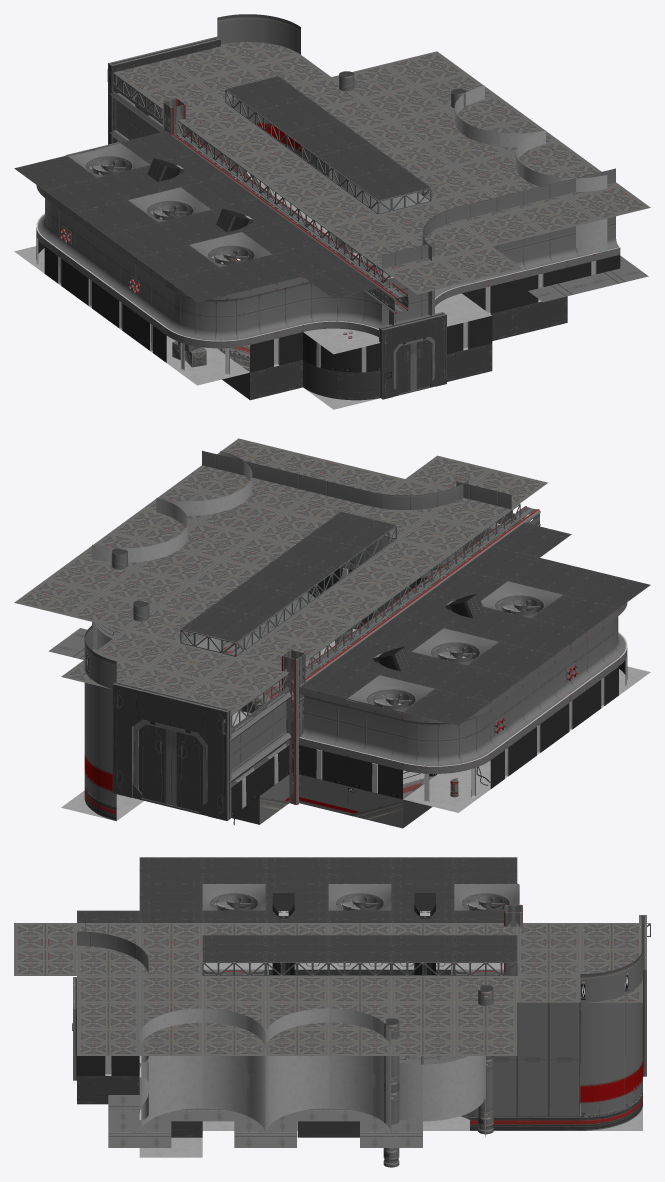
Rendered from demo-layout-fans.glb.
3 views of the same model, one above another, from view 1: azimuth 30°, elevation 25°; view 2: azimuth 150°, elevation 25°; view 3: azimuth 270°, elevation 25° (orthographic). The views are drawn at different scales.
Parts seen in each view (by area): view 1: Door_Frame_Square.001, ShortWall_Band2_Corner_Outer, TopPlastic_Corner_Round_Outer, TopPlastic_Corner_Round_Inner.002, ShortWall_DarkMetal2_Corner_Inner, Door_Frame_Square, TopAstra_Curve_Round_Outer, TopPlastic_Straight.012, TopPlastic_Straight.018, Platform_DarkPlates.004, Platform_DarkPlates.005, Platform_DarkPlates.007 (+105 smaller); view 2: Door_Frame_Square, ShortWall_Band2_Corner_Outer, TopPlastic_Corner_Round_Inner, Door_DarkMetal.001, Door_DarkMetal, TopPlastic_Straight.008, Platform_DarkPlates.007, Platform_X.003, Platform_DarkPlates.005, Platform_X.009, Platform_DarkPlates.023, Platform_X.031 (+106 smaller); view 3: ShortWall_Band2_Corner_Outer, ShortWall_MetalPlates_Straight.001, ShortWall_MetalPlates_Straight, ShortWall_WhitePlate2_Corner_Outer.025, ShortWall_WhitePlate2_Corner_Outer.018, ShortWall_WhitePlate2_Corner_Outer.019, Platform_X.030, ShortWall_WhitePlate2_Corner_Outer.024, Platform_X.024, ShortWall_WhitePlate2_Corner_Outer.008, Platform_DarkPlates.002, Platform_DarkPlates.003 (+95 smaller).
Part boxes in pixels (x1,y1,x2,y2): Door_Frame_Square.001: (379,312,446,399); ShortWall_Band2_Corner_Outer: (217,14,300,156); TopPlastic_Corner_Round_Outer: (298,297,393,336); TopPlastic_Corner_Round_Inner.002: (166,306,249,348); ShortWall_DarkMetal2_Corner_Inner: (303,360,380,400); Door_Frame_Square: (108,36,220,146); TopAstra_Curve_Round_Outer: (303,332,380,372); TopPlastic_Straight.012: (245,301,302,344); TopPlastic_Straight.018: (510,237,567,280); Platform_DarkPlates.004: (75,200,157,235); Platform_DarkPlates.005: (106,222,188,257); Platform_DarkPlates.007: (167,267,249,302); Door_Frame_Square: (112,681,231,820); ShortWall_Band2_Corner_Outer: (84,624,116,806); TopPlastic_Corner_Round_Inner: (403,729,490,773); Door_DarkMetal.001: (139,724,171,804); Door_DarkMetal: (171,730,202,811); TopPlastic_Straight.008: (347,724,407,770); Platform_DarkPlates.007: (563,571,650,608); Platform_X.003: (149,643,235,680); Platform_DarkPlates.005: (499,618,586,655); Platform_X.009: (397,516,483,552); Platform_DarkPlates.023: (245,558,331,595); Platform_X.031: (14,579,100,616); ShortWall_Band2_Corner_Outer: (580,950,642,1116); ShortWall_MetalPlates_Straight.001: (517,1002,548,1116); ShortWall_MetalPlates_Straight: (548,1002,579,1116); ShortWall_WhitePlate2_Corner_Outer.025: (202,1079,265,1133); ShortWall_WhitePlate2_Corner_Outer.018: (265,1079,328,1133); ShortWall_WhitePlate2_Corner_Outer.019: (328,1079,391,1132); Platform_X.030: (77,1002,139,1029); ShortWall_WhitePlate2_Corner_Outer.024: (139,1079,202,1134); Platform_X.024: (454,1002,517,1029); ShortWall_WhitePlate2_Corner_Outer.008: (423,1056,485,1092); Platform_DarkPlates.002: (454,857,517,883); Platform_DarkPlates.003: (391,857,454,883).
Bounding box in the file's own units: 33 × 11.82 × 40.5.
Materials: 22 (18 with a texture image).
